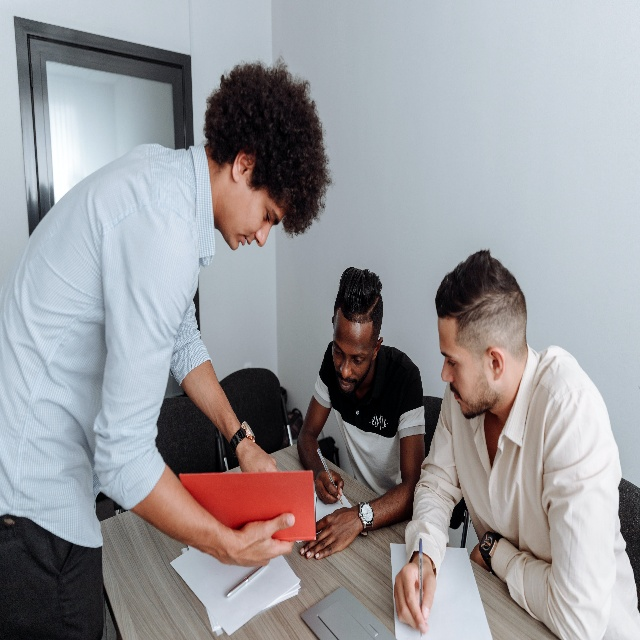Sin_guantes: (296, 505, 365, 559), (233, 510, 296, 569), (393, 555, 436, 634), (238, 434, 279, 476), (315, 464, 344, 505), (470, 539, 492, 572)
